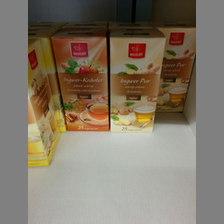tea: (51, 28, 110, 132), (108, 29, 166, 134), (151, 20, 195, 112)
